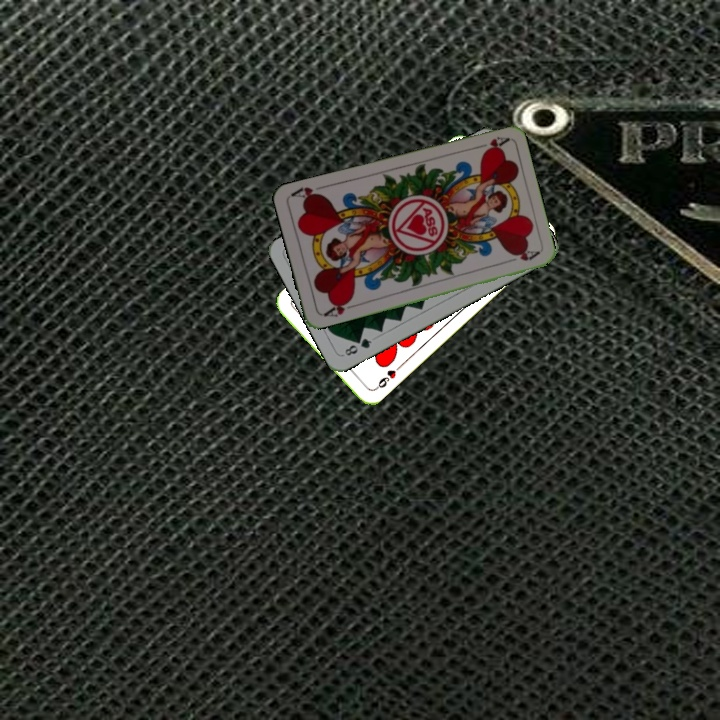G8: (339, 334, 374, 358)
H9: (370, 362, 404, 393)
HA: (470, 132, 510, 156), (319, 295, 358, 319)
